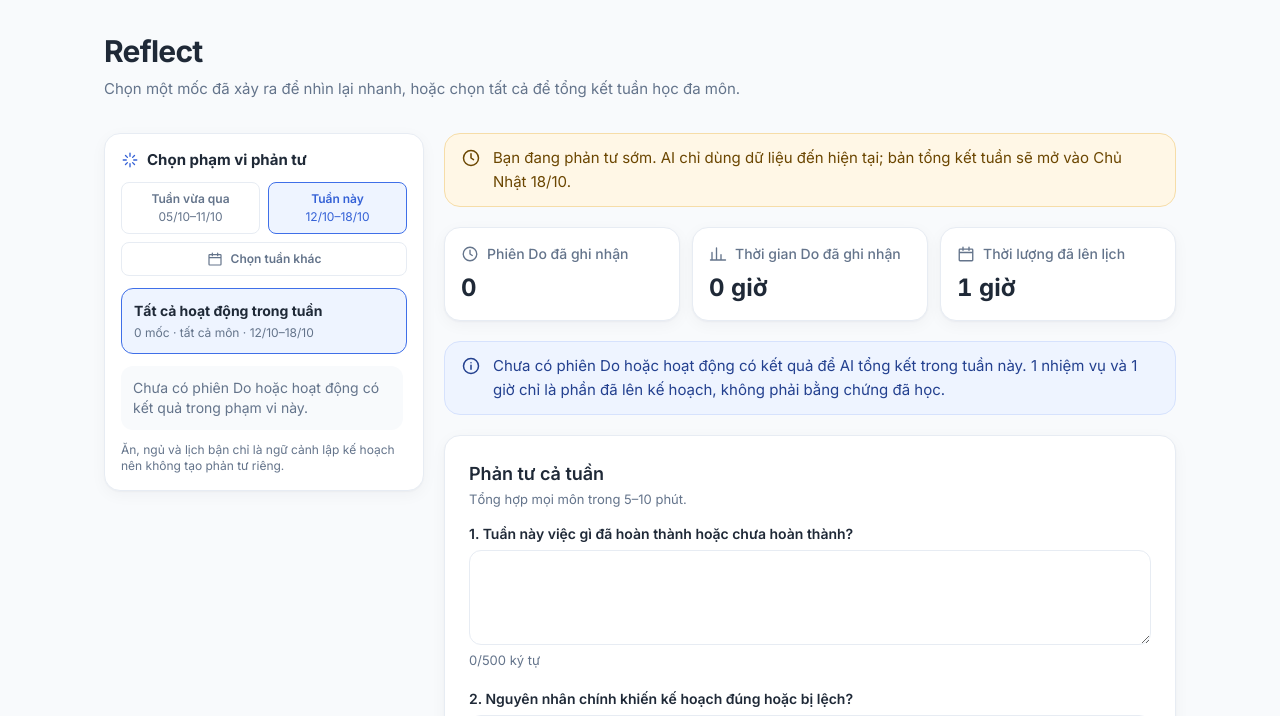
weekly reflection scope › defaults to the current calendar week and lets the learner inspect last week
The width and height of the screenshot is (1280, 716).
Expected: the text "Bạn đang phản tư sớm" is shown, left=493, top=148, right=1122, bottom=191
Expected: the text "1 nhiệm vụ và 1 giờ chỉ là phần đã lên kế hoạch, không phải bằng chứng đã học" is shown, left=493, top=356, right=1137, bottom=399
What coordinates should you click on to do the following:
click the button "Tuần vừa qua 05/10–11/10"
I would click on:
 (190, 208)
Its box is left=121, top=182, right=260, bottom=234.
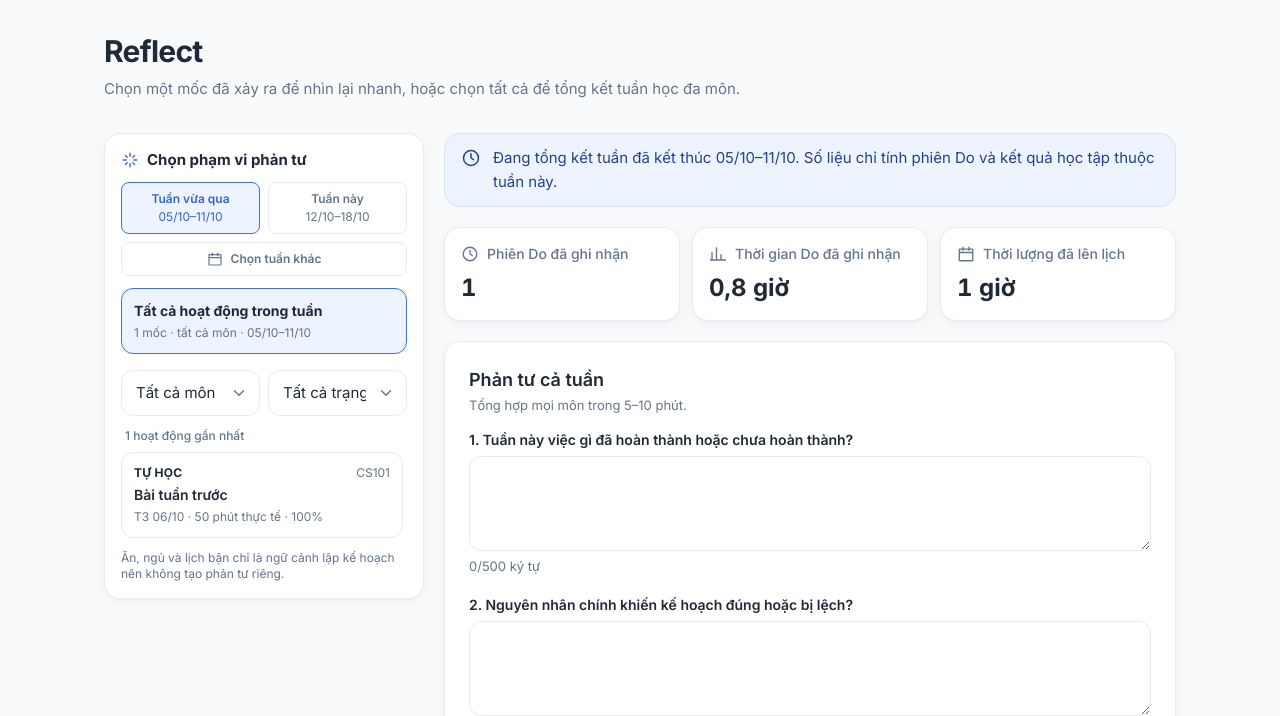
Expected: the text "Đang tổng kết tuần đã kết thúc 05/10–11/10" is shown, left=493, top=148, right=1154, bottom=191
Expected: the text "1 mốc · tất cả môn · 05/10–11/10" is shown, left=134, top=324, right=311, bottom=340
Expected: the text "Bạn đang phản tư sớm" is gone
